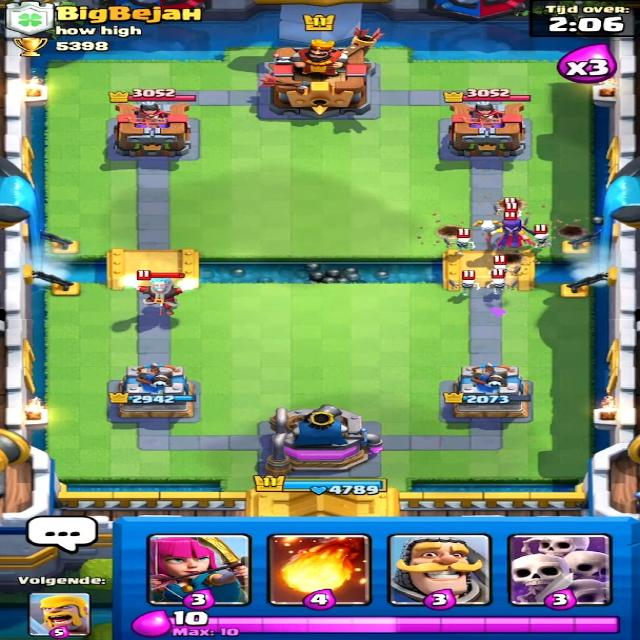Enemy_Ice_Wizard_Troop: (121, 277, 194, 318)
Enemy_Skeleton_Troop: (531, 226, 558, 252), (452, 270, 480, 292), (450, 233, 474, 254), (486, 276, 508, 293)
Enemy_Witch_Troop: (478, 212, 538, 257)
Fireball_Card: (271, 536, 370, 609)
